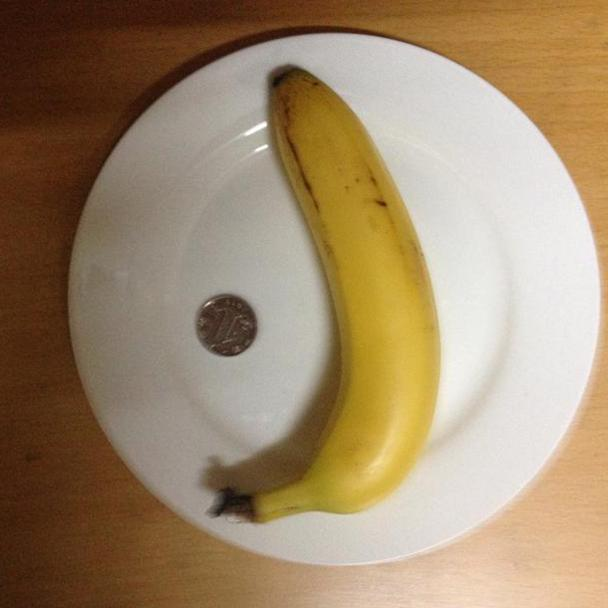banana: (227, 64, 454, 528)
